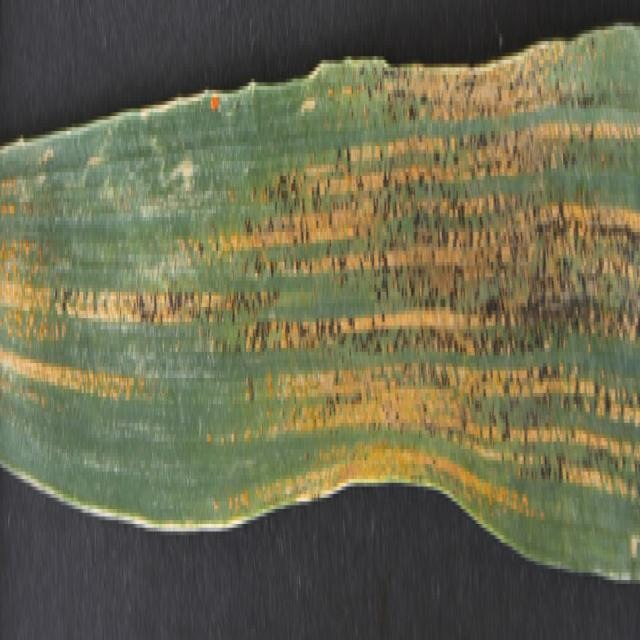leaf rust: (1, 56, 638, 520)
